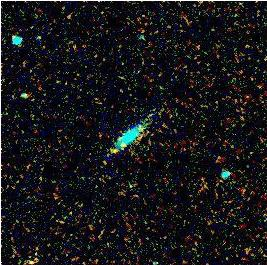star: (99, 136, 129, 166)
